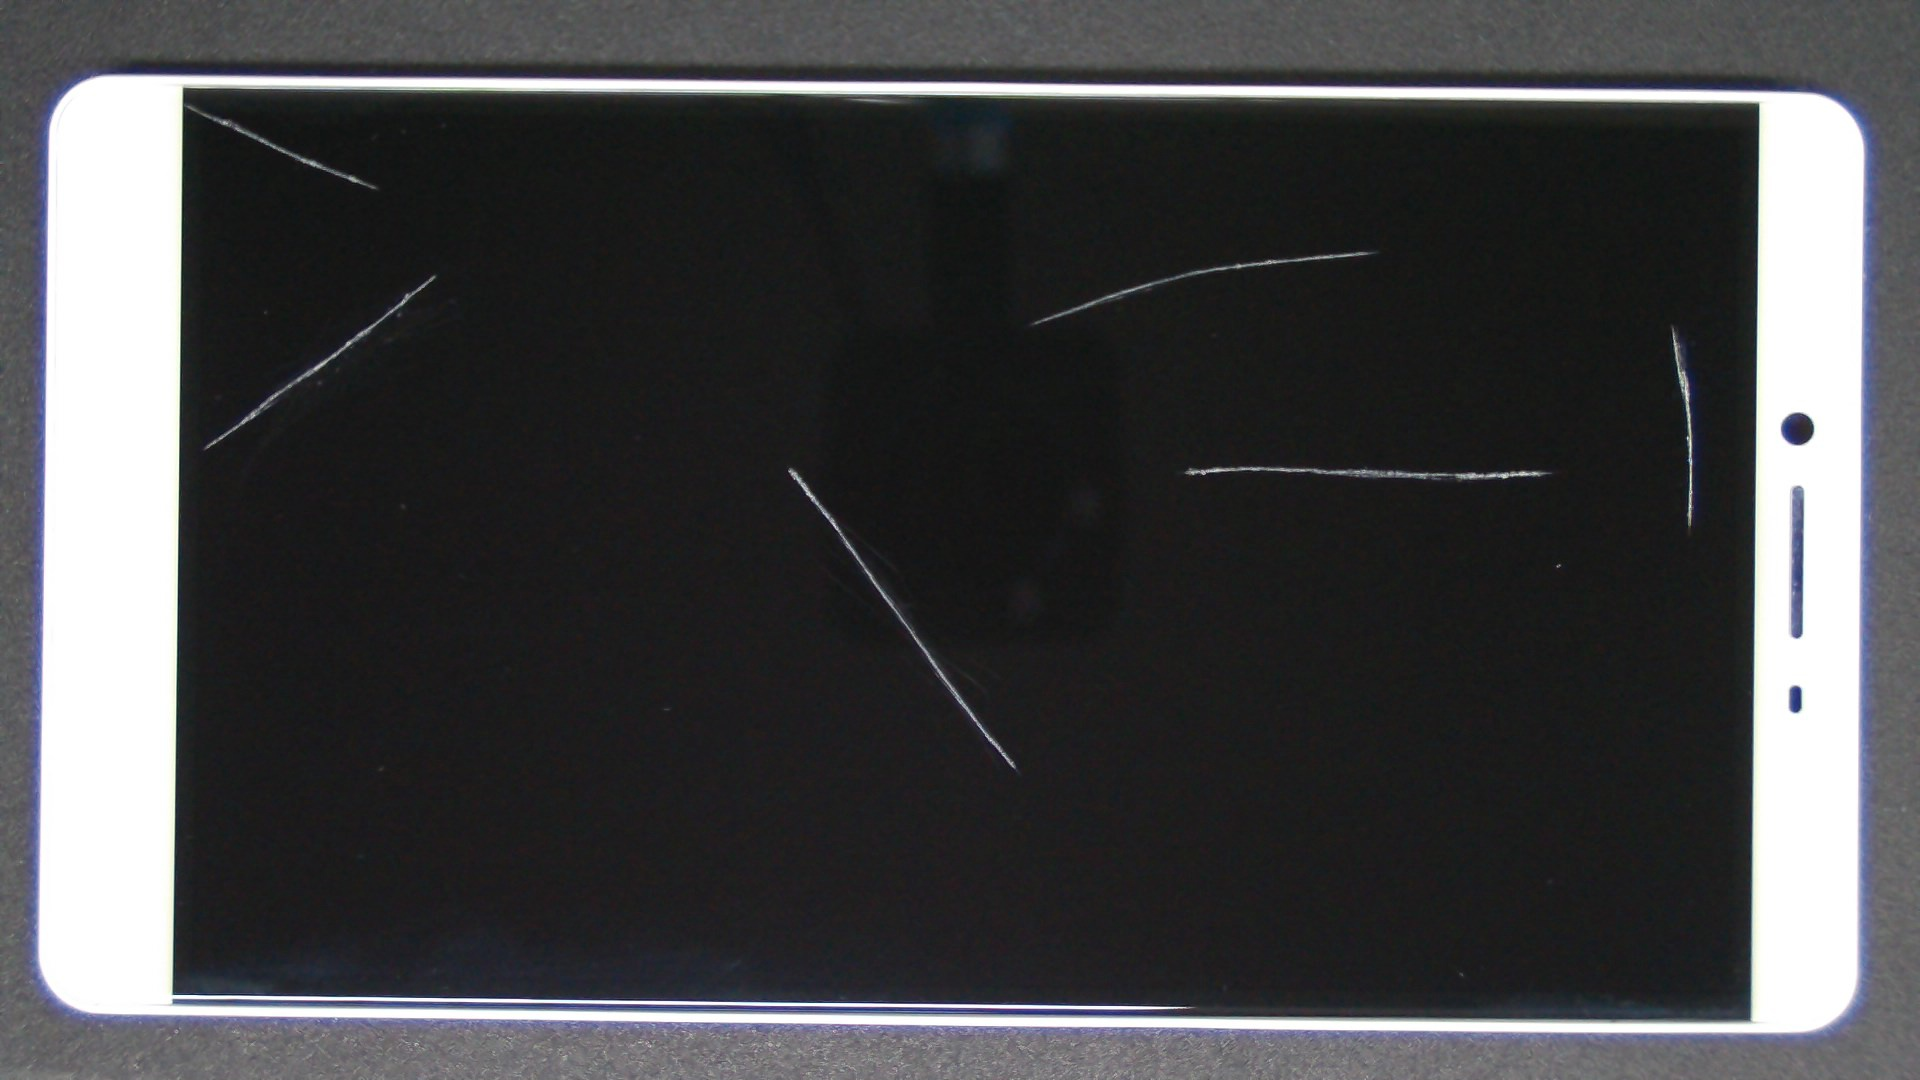oil: (620, 232, 1858, 696), (396, 232, 1183, 699), (835, 158, 1920, 488), (680, 124, 1920, 376), (218, 136, 651, 410), (94, 50, 280, 153)
